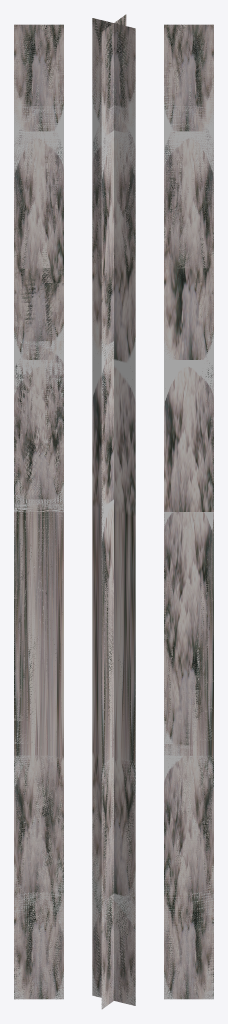
The model's file is Air.FBX.
The picture shows the model from 3 angles, left to right: view 1: azimuth 90°, elevation 25°; view 2: azimuth 150°, elevation 25°; view 3: azimuth 270°, elevation 25°; orthographic projection.
Visible parts, largest first — view 1: Air; view 2: Air; view 3: Air.
Boxes of the visible parts, x1,y1,x2,y2 form: Air: (14, 24, 63, 999); Air: (92, 14, 135, 1009); Air: (164, 24, 213, 999).
Bounding box in the file's own units: 1000 × 21624 × 1000.
